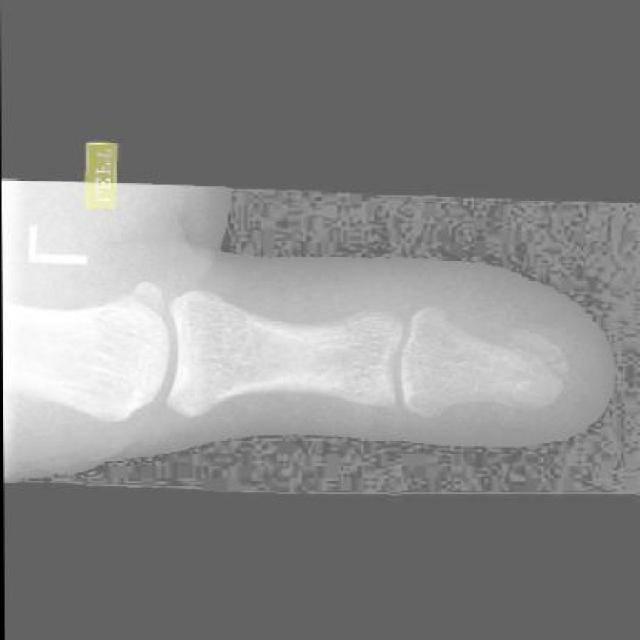Fracture: (488, 328, 573, 421)
